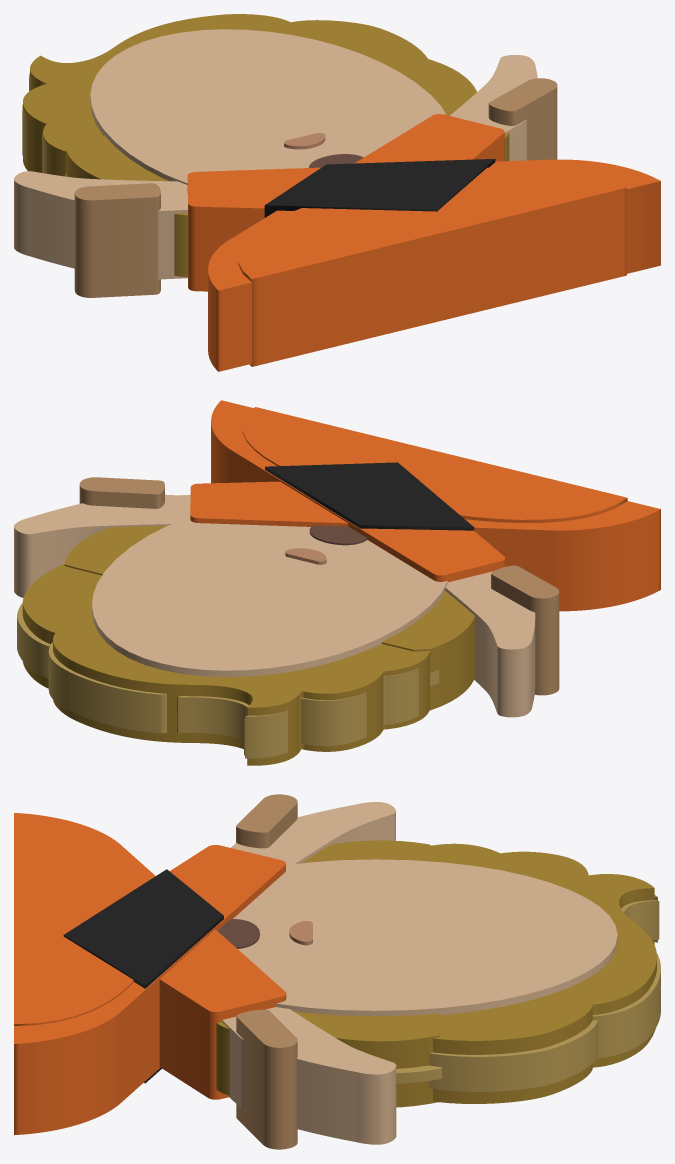
The model's file is emoji_u1f645_1f3fc.glb.
3 views of the same model, one above another, from view 1: azimuth 30°, elevation 25°; view 2: azimuth 150°, elevation 25°; view 3: azimuth 270°, elevation 25° (orthographic). The views are drawn at different scales.
Visible parts, largest first — view 1: emoji_u1f645_1f3fc; view 2: emoji_u1f645_1f3fc; view 3: emoji_u1f645_1f3fc.
Part boxes in pixels (x1=…): emoji_u1f645_1f3fc: x1=14, y1=14, x2=660, y2=371; emoji_u1f645_1f3fc: x1=14, y1=400, x2=660, y2=765; emoji_u1f645_1f3fc: x1=14, y1=794, x2=660, y2=1149.
Bounding box in the file's own units: 0.0331 × 0.006 × 0.0334.
